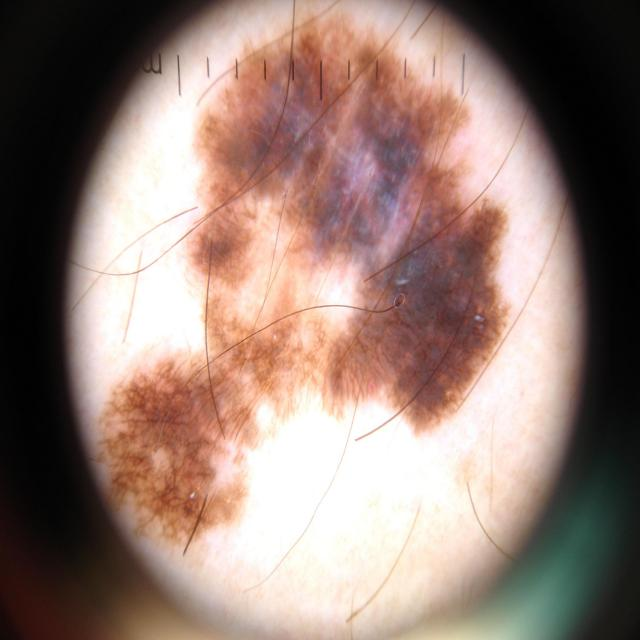Melanoma: (92, 25, 515, 563)
